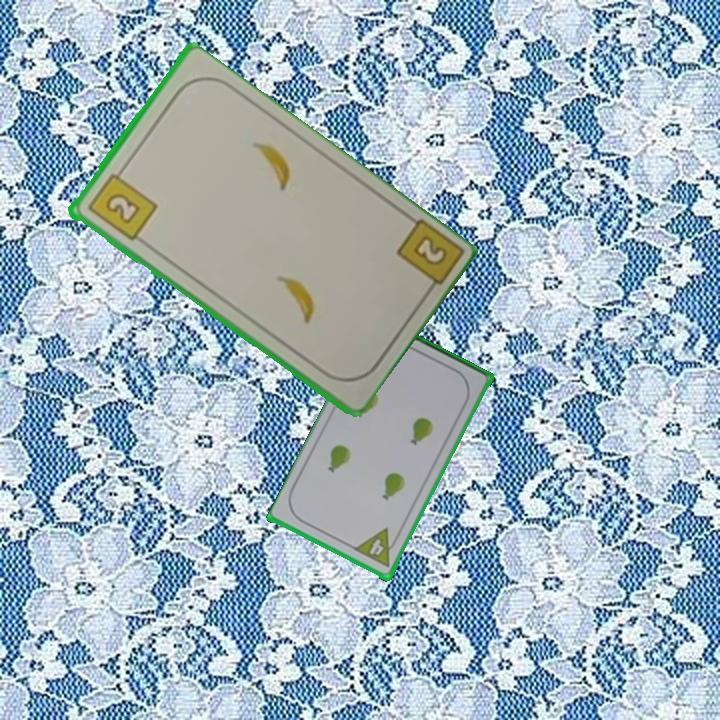2b: (83, 164, 160, 244), (392, 215, 463, 301)
4p: (351, 525, 402, 570)
